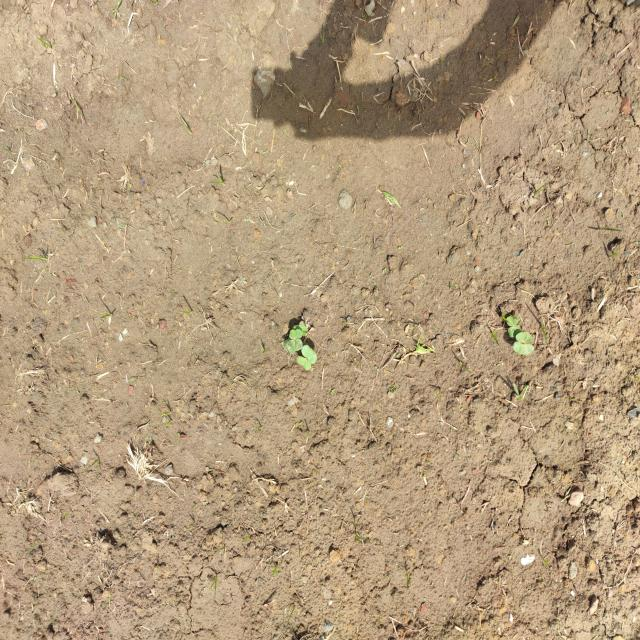seedling_s1: (301, 345, 317, 364), (513, 341, 534, 355), (297, 356, 311, 370), (516, 332, 532, 343), (291, 338, 303, 352), (508, 325, 521, 337), (289, 329, 303, 340), (506, 315, 520, 326), (299, 321, 306, 336), (283, 339, 290, 352), (288, 340, 294, 354)
